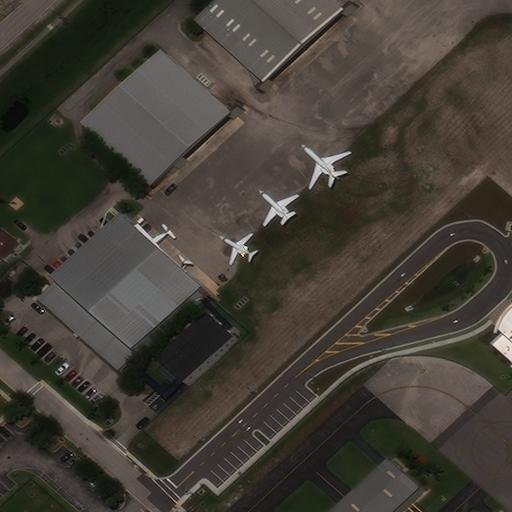Medium Civil Transport: (301, 143, 349, 190), (257, 188, 297, 226)
Small Civil Transport: (219, 233, 253, 265)
